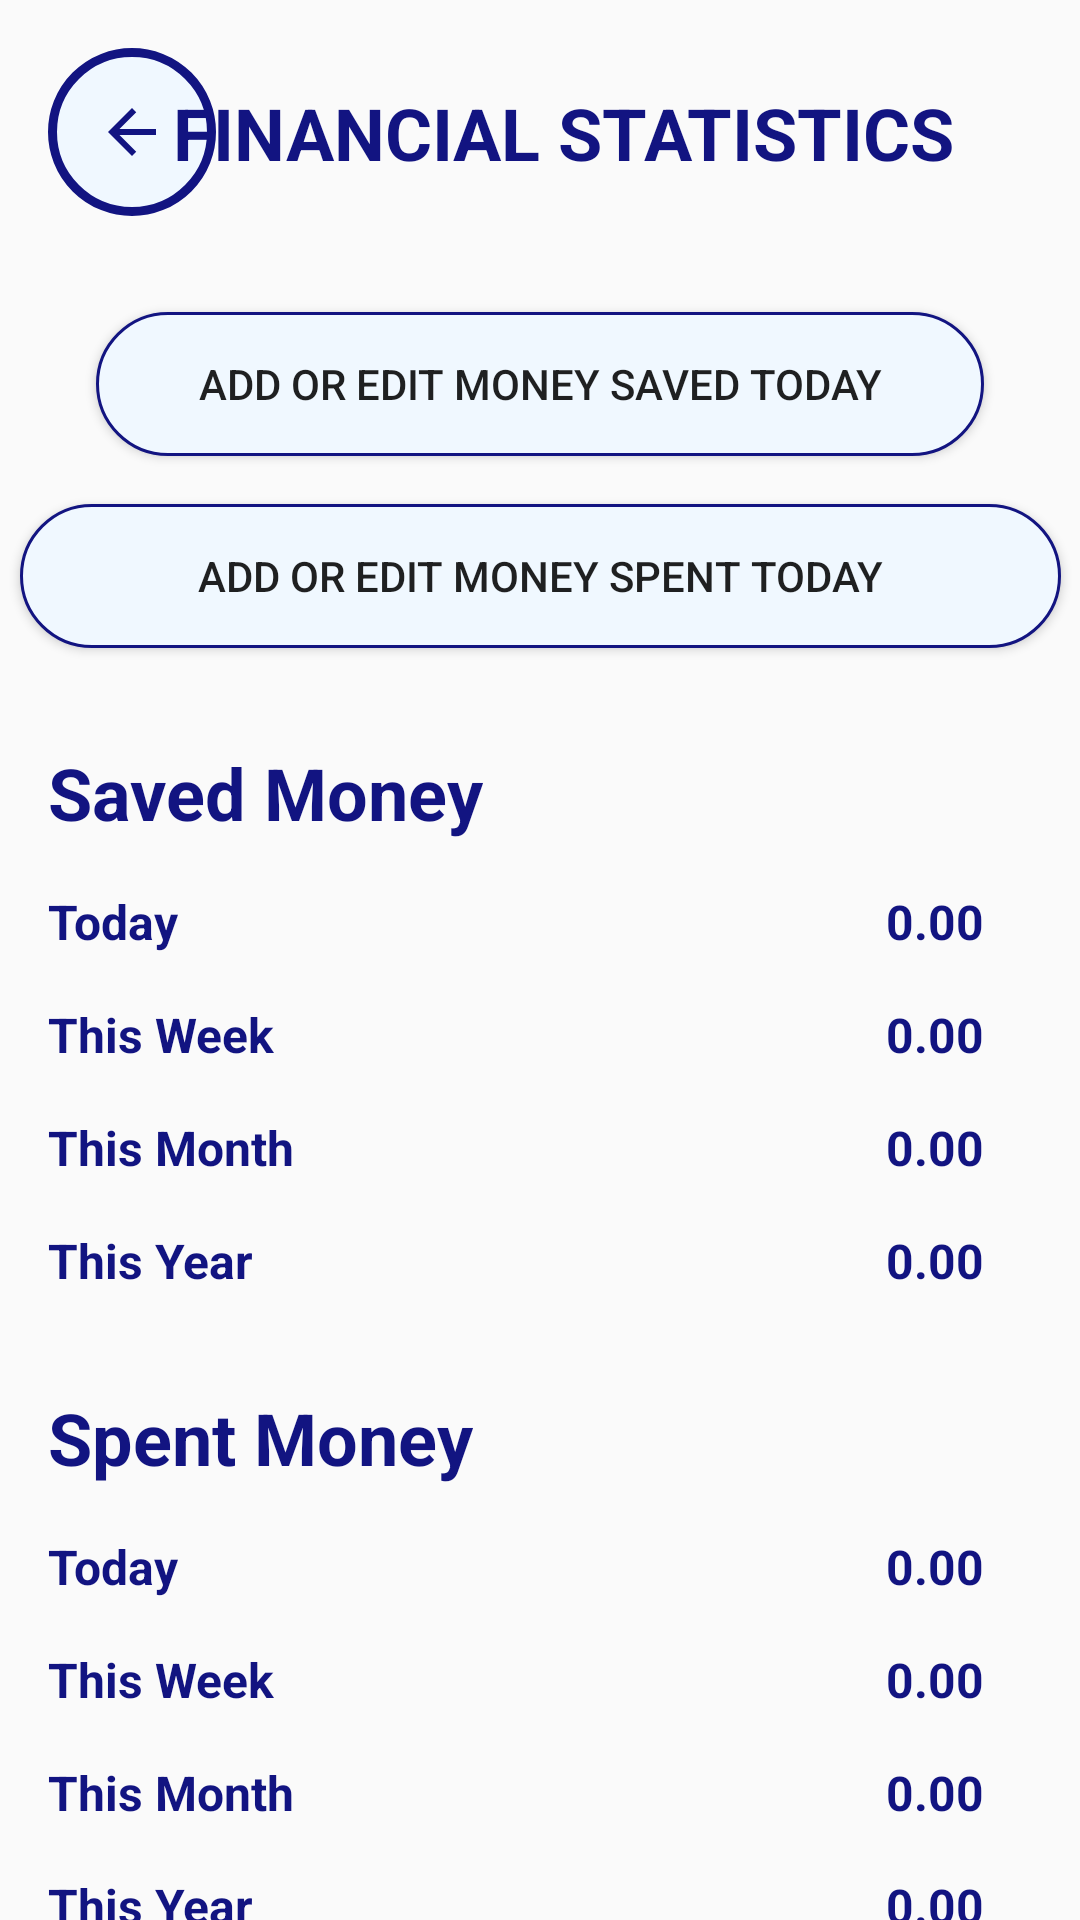

Icon bounding boxes for this 1080 × 1920 phone screenshot, format (x1, y1, x2, y2):
Back Button: (48, 48, 216, 216)
